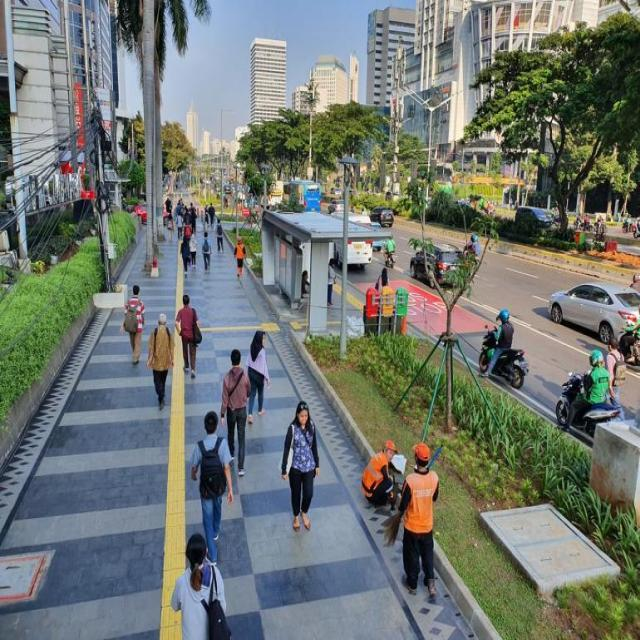pejalan-kaki: (171, 528, 247, 634), (399, 441, 445, 608), (220, 353, 261, 485), (190, 417, 235, 524), (291, 402, 322, 544), (241, 323, 272, 438), (173, 298, 206, 383), (127, 280, 151, 390), (157, 318, 180, 431), (603, 339, 632, 399), (233, 230, 242, 298)
